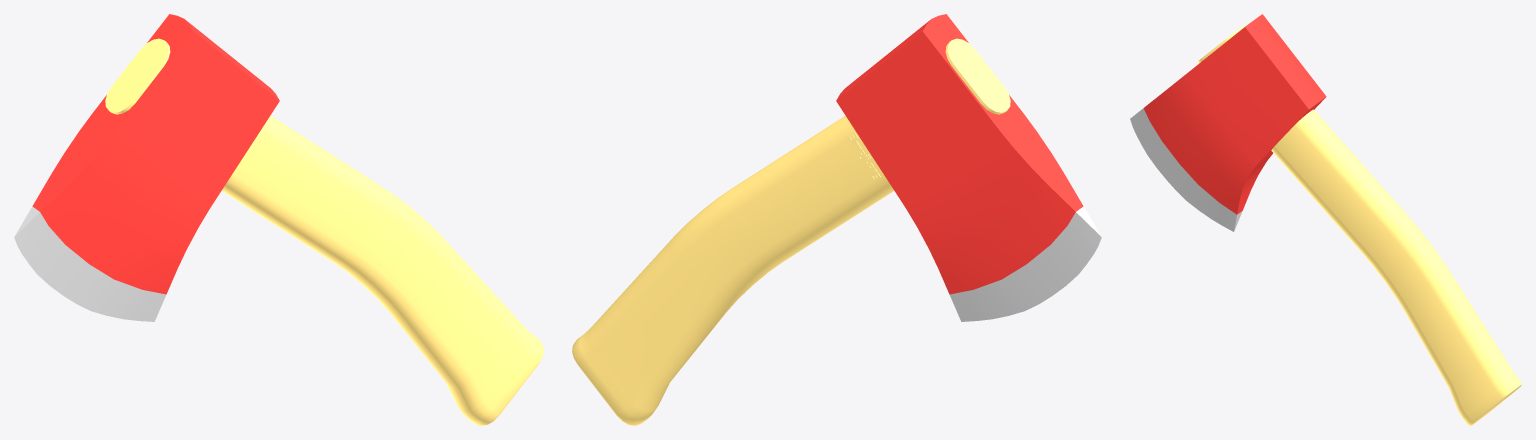
The model's file is axe.glb.
3 renders of one model, left to right at view 1: azimuth 30°, elevation 25°; view 2: azimuth 150°, elevation 25°; view 3: azimuth 330°, elevation 25°, orthographic. The views are drawn at different scales.
Visible parts, largest first — view 1: Cube.987; view 2: Cube.987; view 3: Cube.987.
Part boxes in pixels (bbox=[...]): Cube.987: bbox=[14, 14, 543, 425]; Cube.987: bbox=[572, 14, 1101, 425]; Cube.987: bbox=[1130, 14, 1521, 425].
Size of the model in its own units: 2.3 by 1.99 by 0.18.
Materials: 1 (1 with a texture image).
